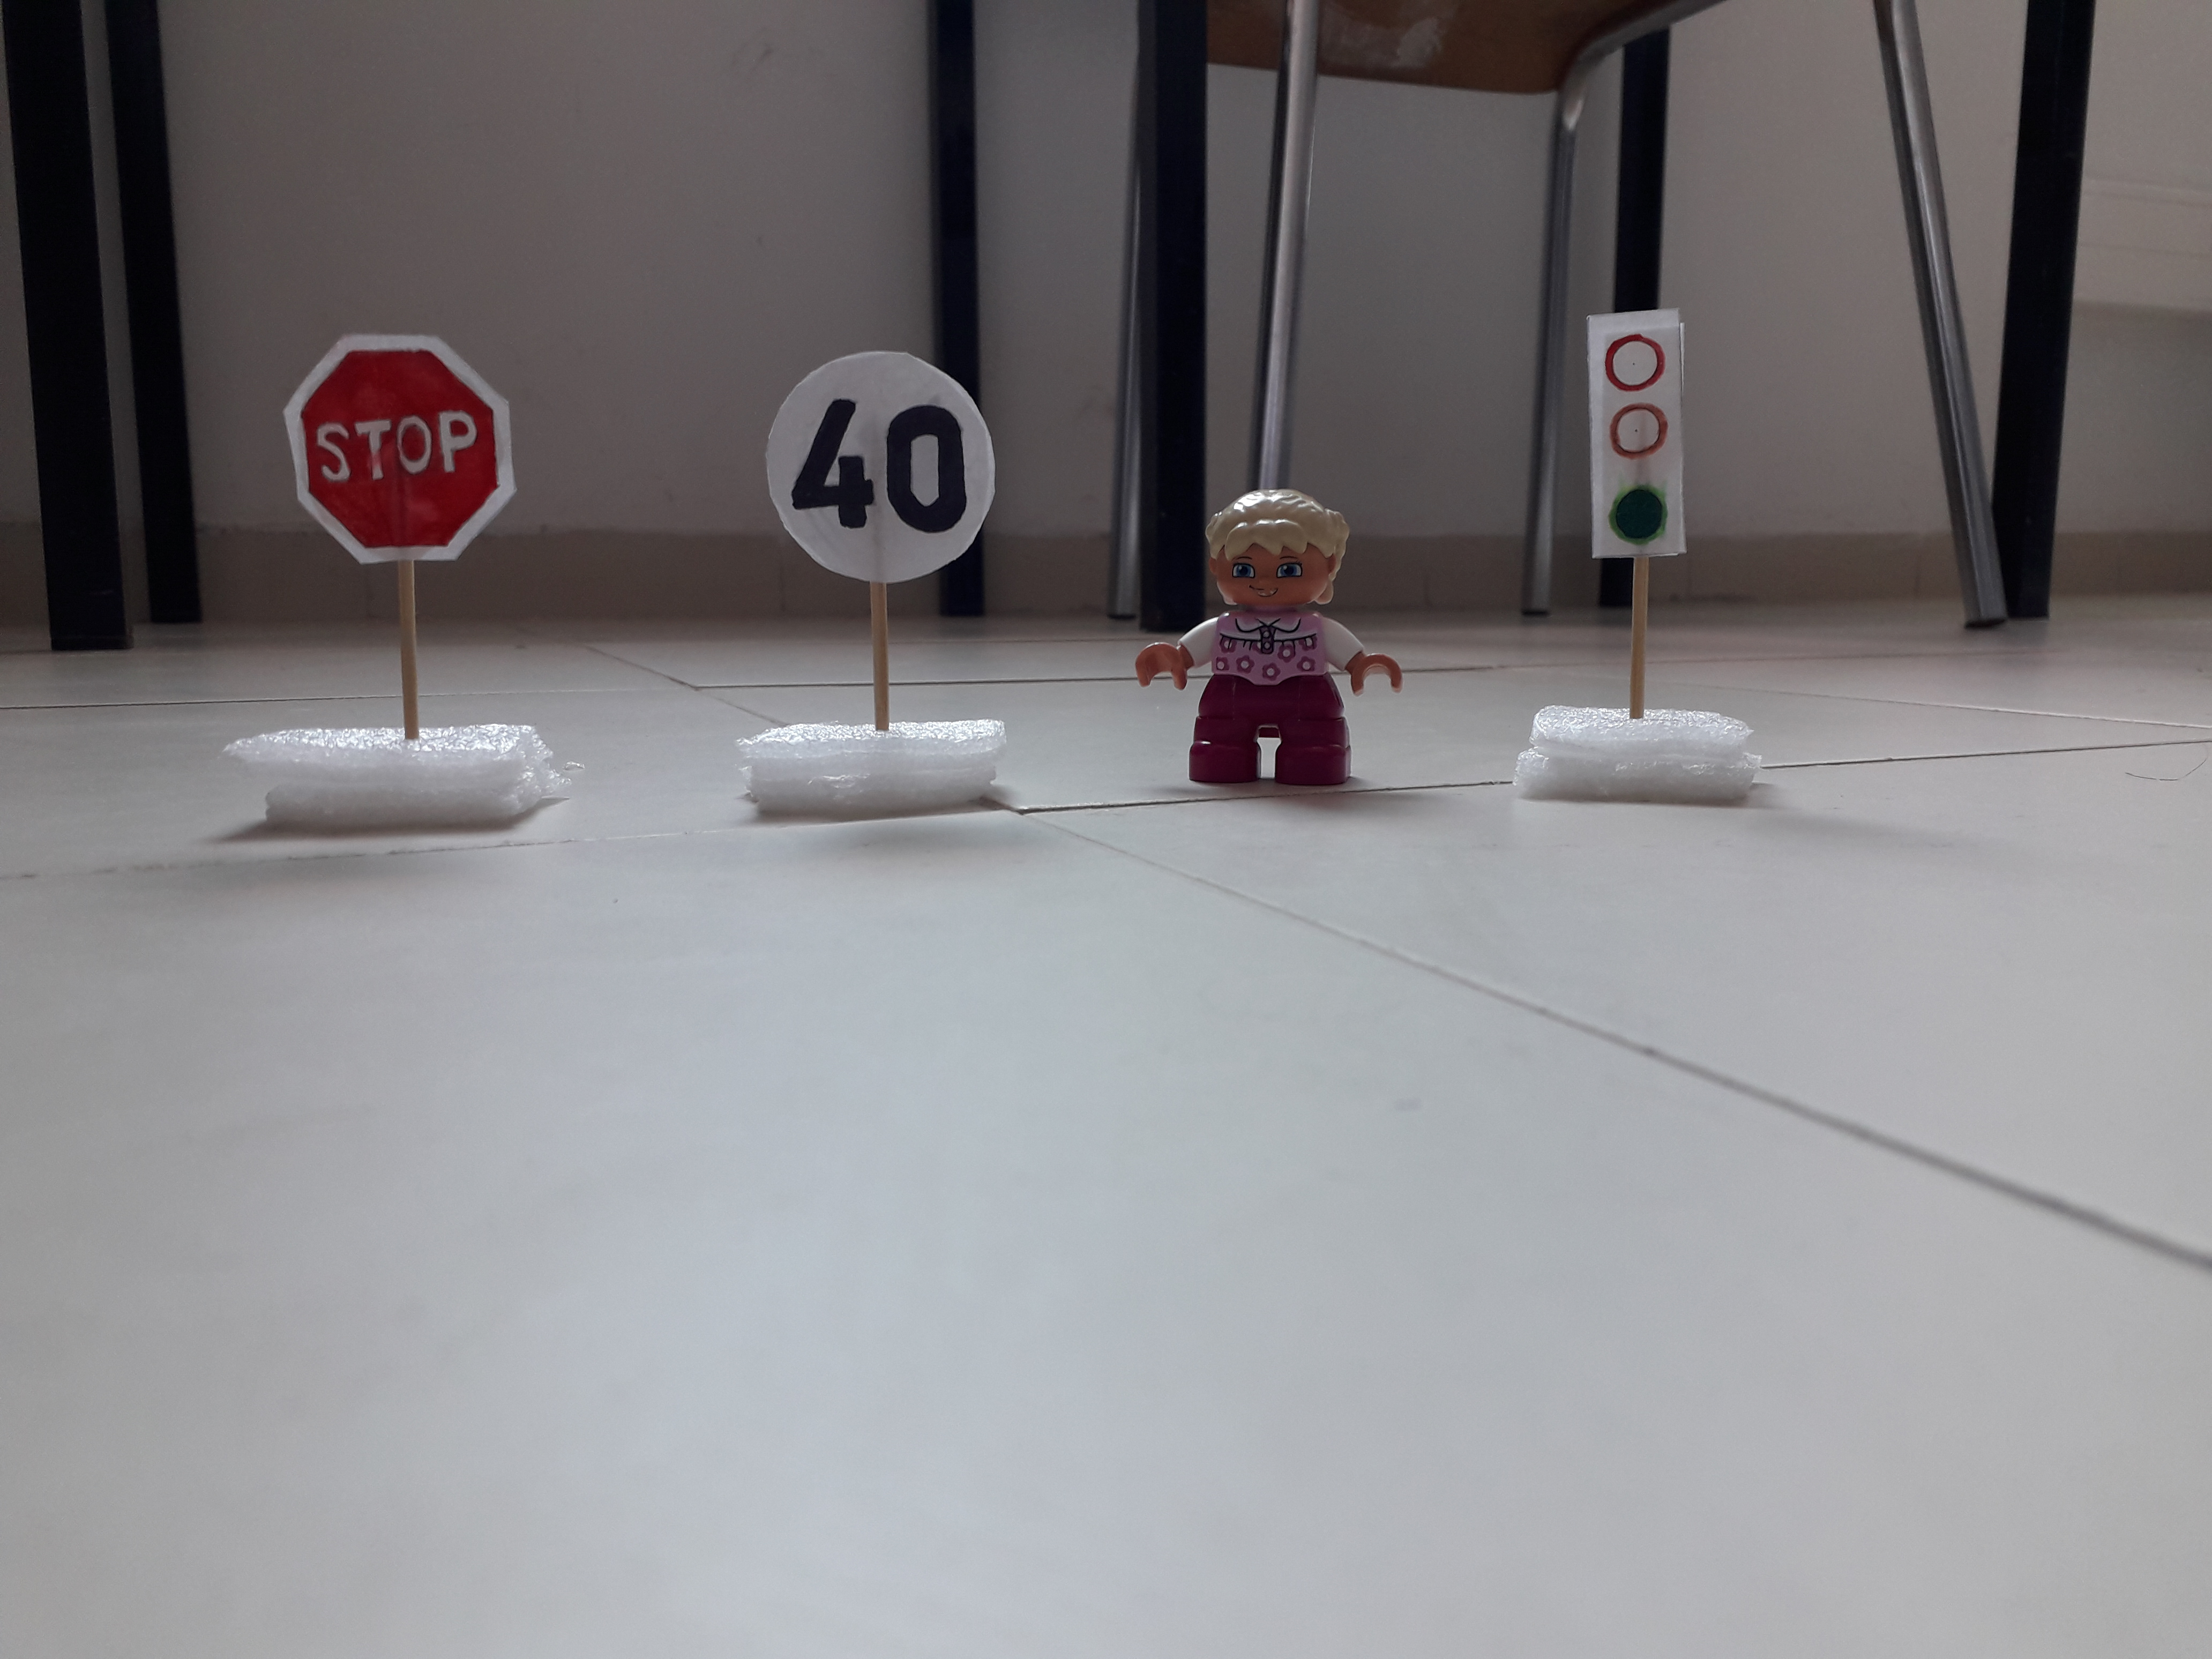40_sign: (760, 344, 1000, 584)
green_light: (1566, 311, 1697, 566)
person: (1135, 482, 1408, 804)
stop_sign: (275, 329, 520, 566)
